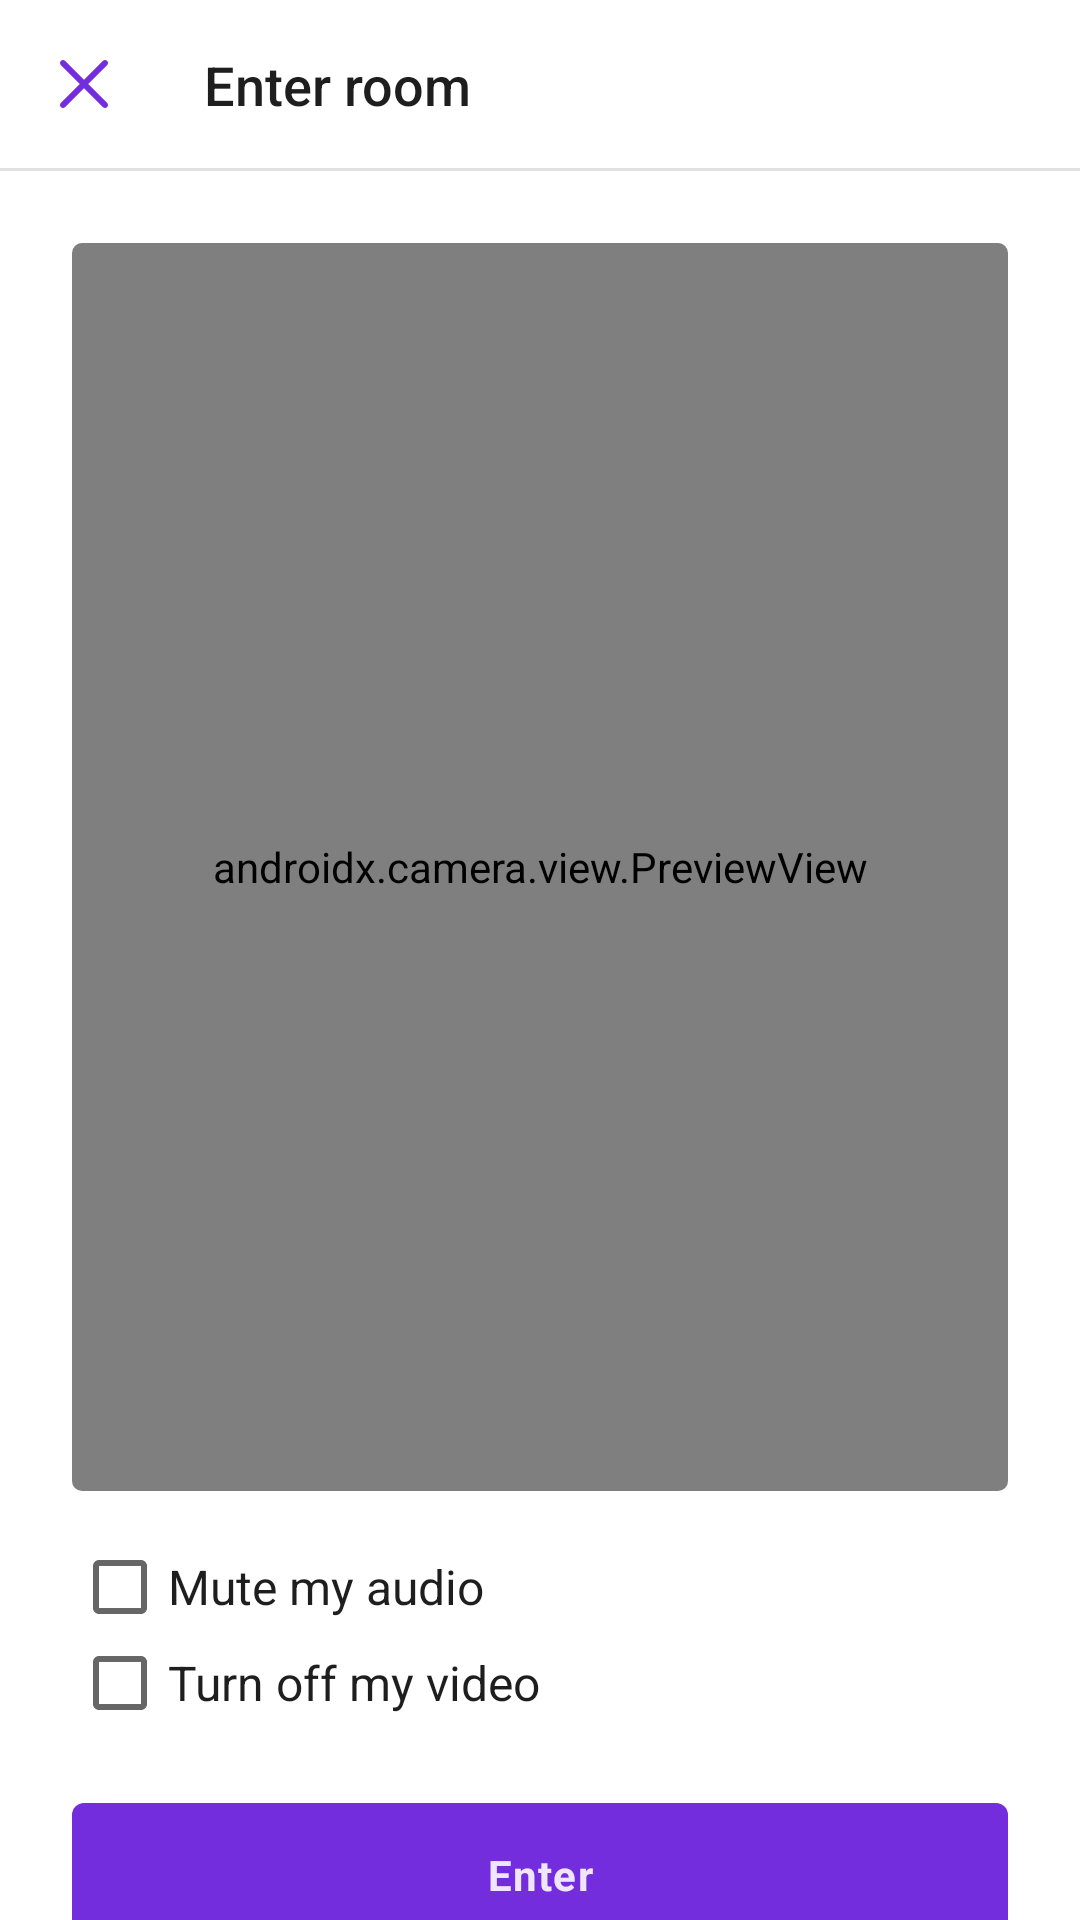

Screen size 1080*1920. Icon name, then its box in pixels as [x1,y1,x2,y2]:
close: [60,60,108,108]
